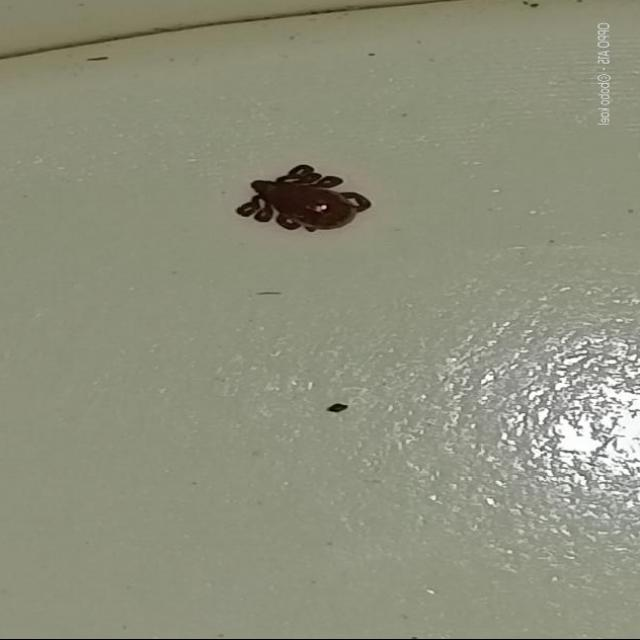Rhipicephalus Sanguineus-M: (236, 163, 374, 238)
